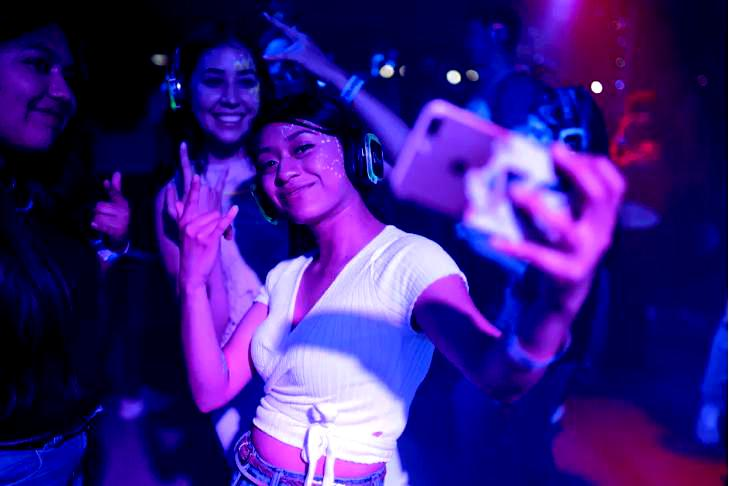face: (1, 25, 78, 148), (260, 122, 335, 223), (190, 41, 258, 145)
